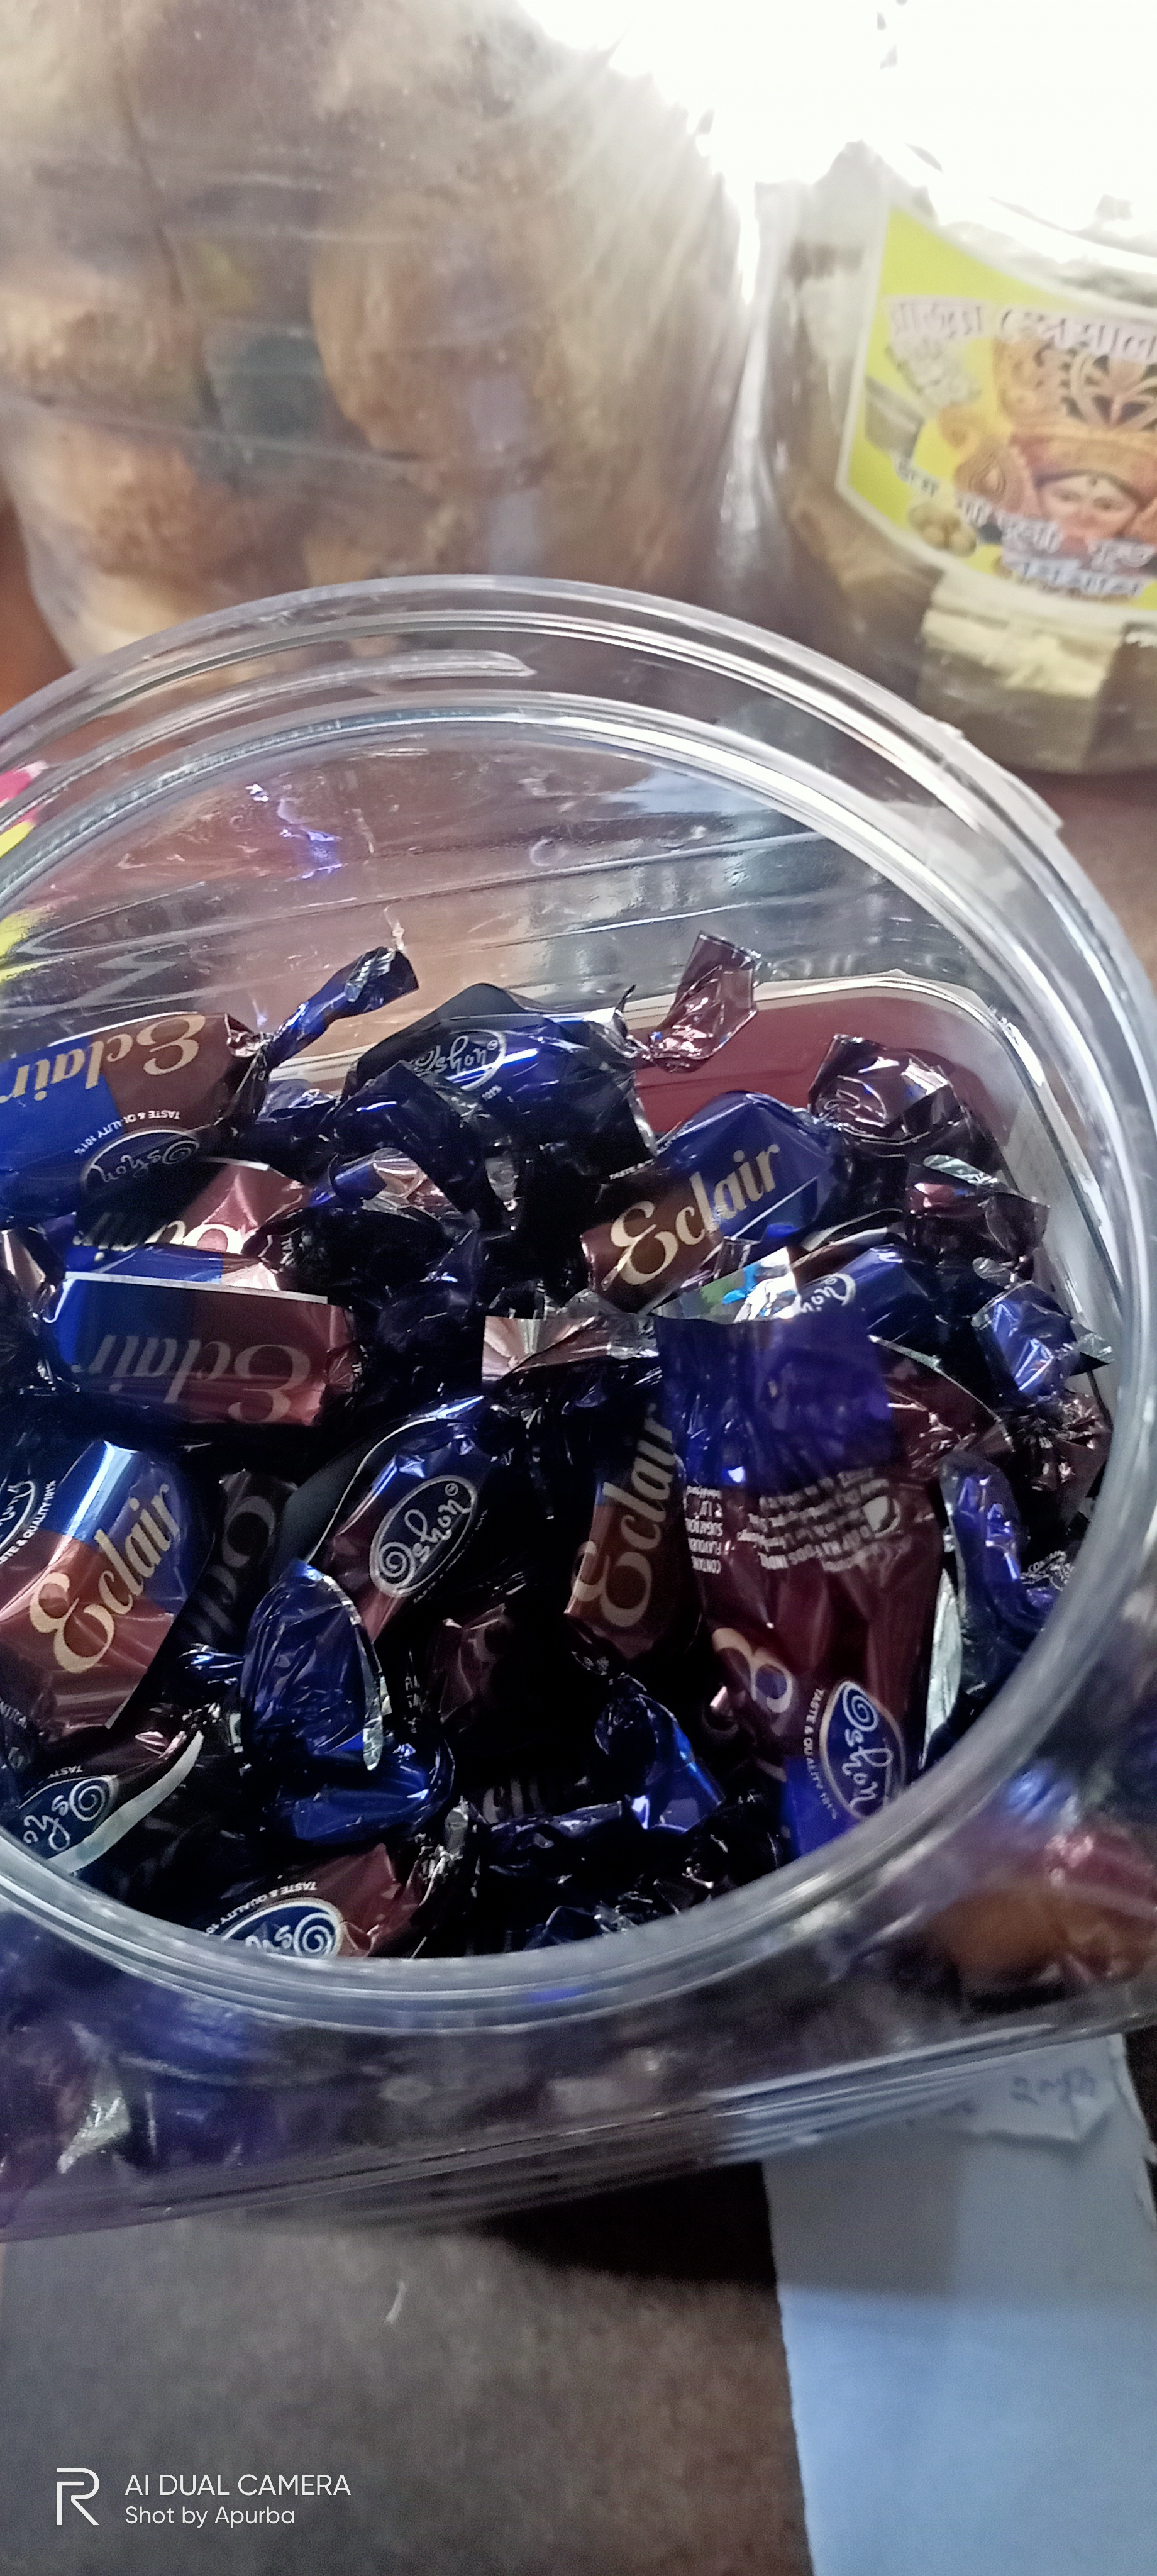food: (0, 927, 1157, 2195), (3, 0, 782, 678), (748, 0, 1157, 802)
